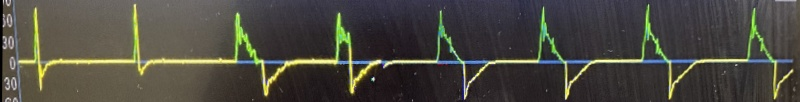hydrop_flow: (13, 3, 783, 102)
